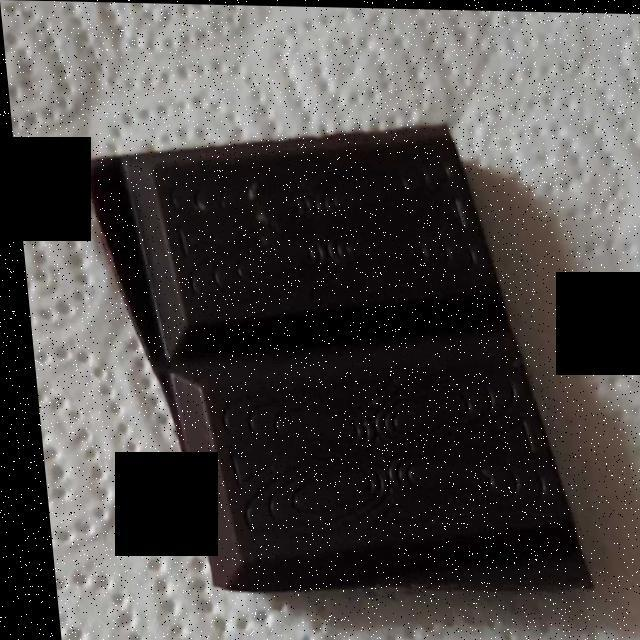chocolate: (91, 138, 575, 591)
